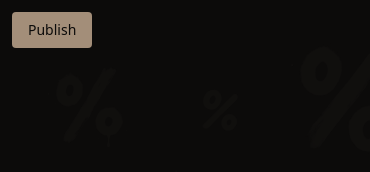
Test case: RecipePublishButton › shows the server message and does not refresh when the change fails
Click the button "Publish": [52, 30] box left=12, top=12, right=92, bottom=48
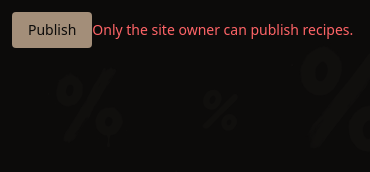
Check: the message reads "Only the site owner can publish recipes.", box left=92, top=20, right=353, bottom=39
